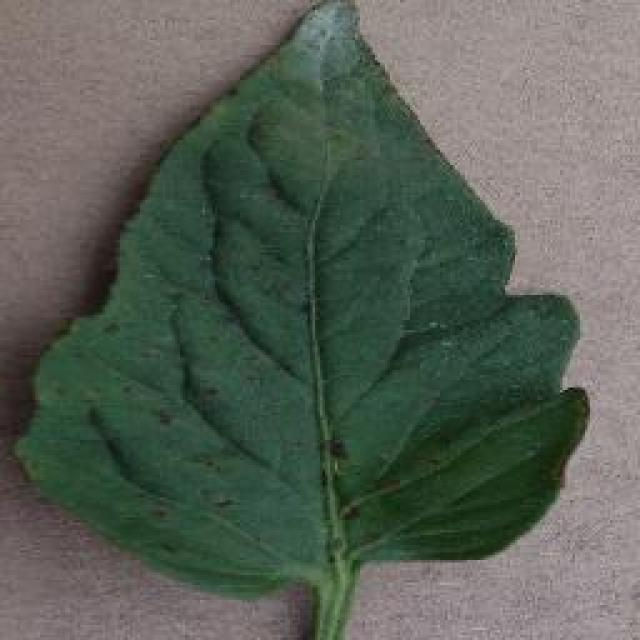Tomato bacterial spot leaf: (70, 0, 577, 632)
